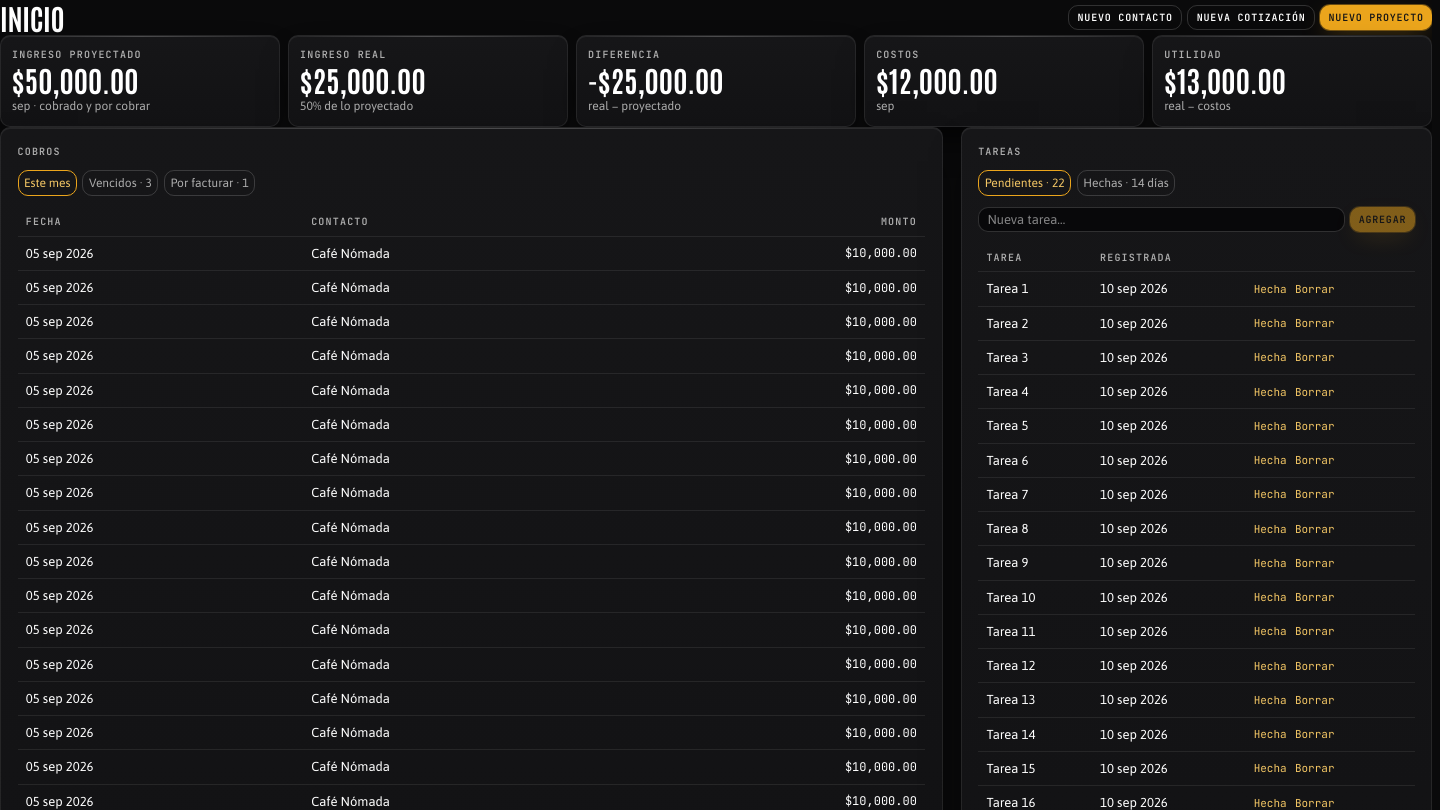
it: Inicio, 20 a page › shows the page of a Tarea just added
Type "Tarea 23" into the field with placeholder "Nueva tarea…" at (1162,219), box [978,207,1345,232]
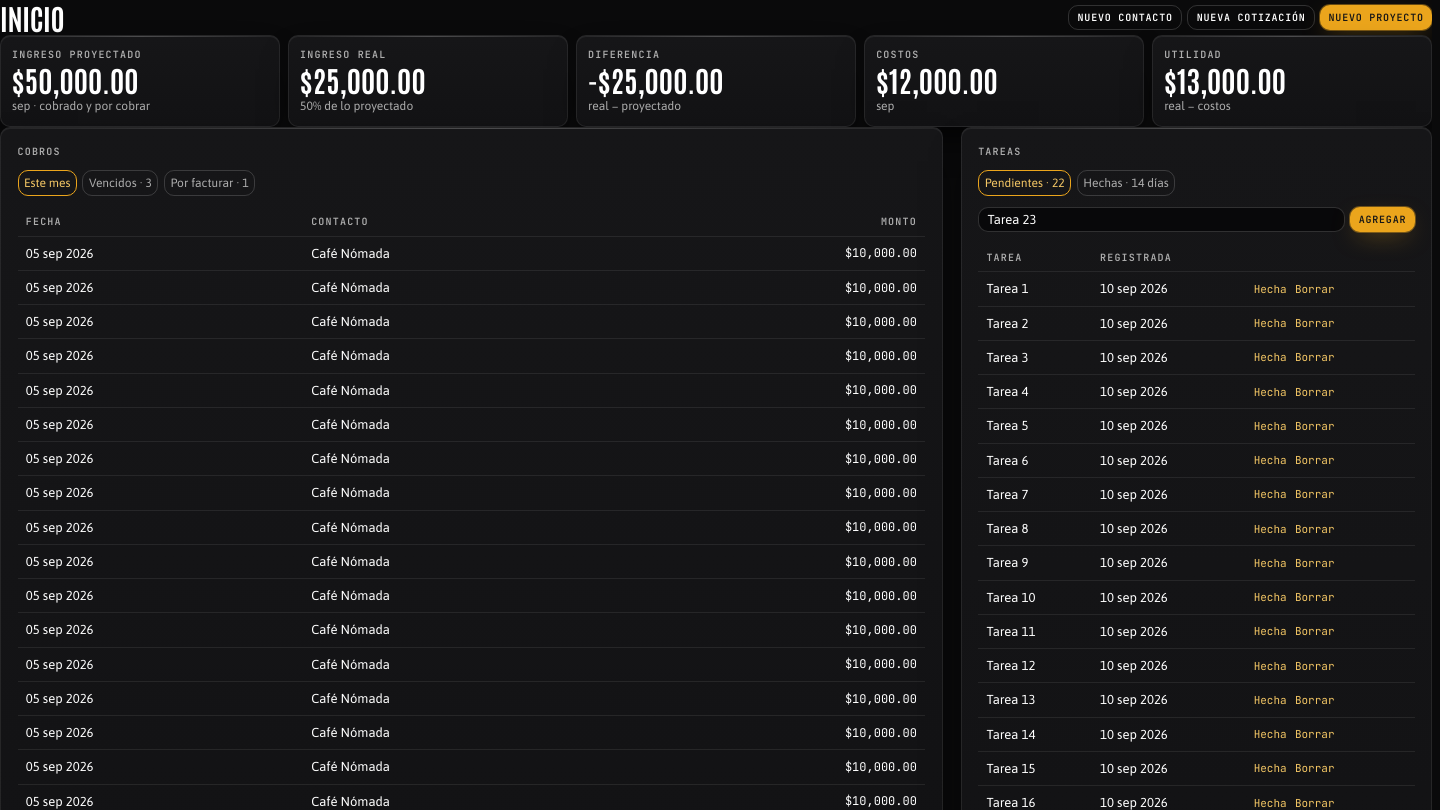
Click the button "Agregar" at (1382,219), box [1350,207,1414,232]
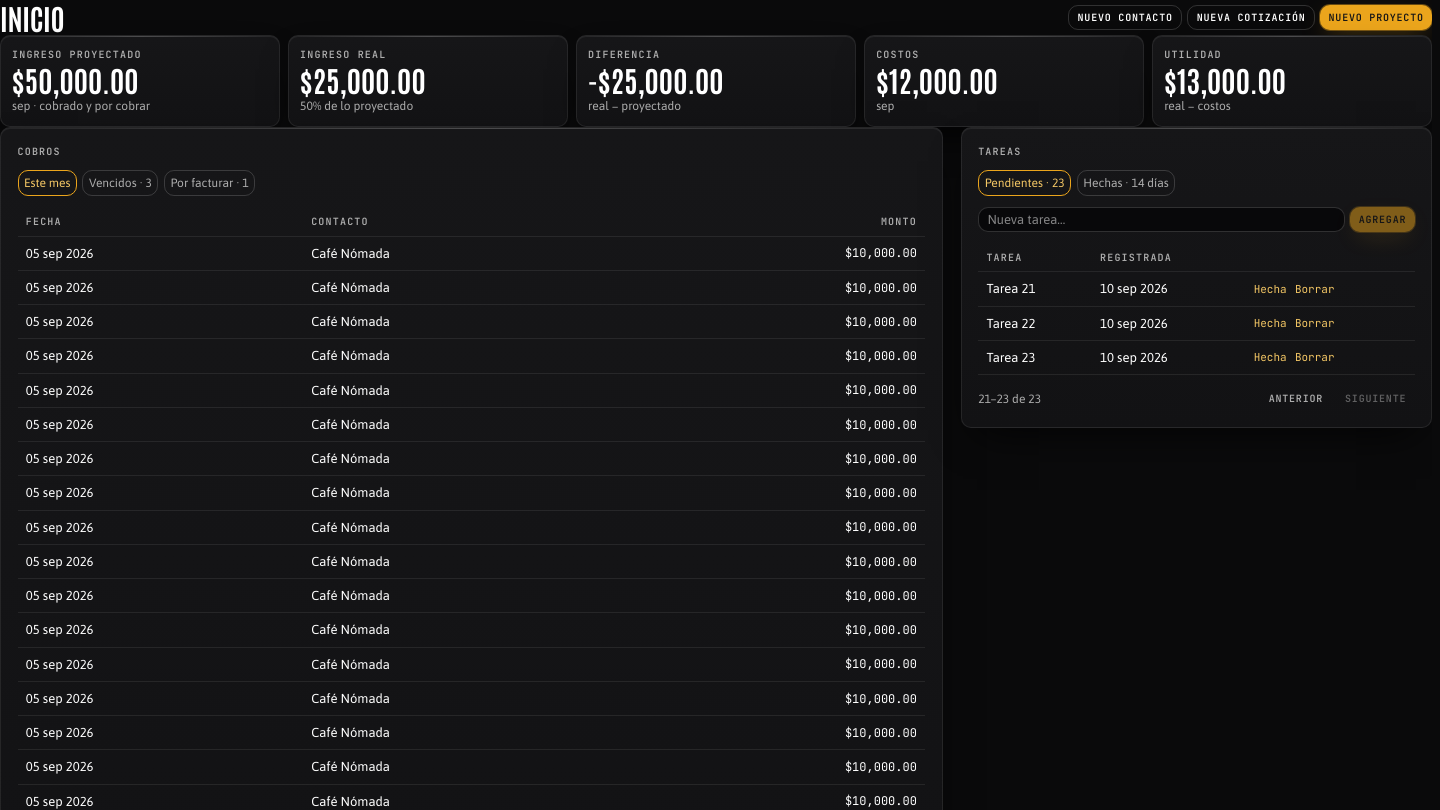
Now the text "21–23 de 23" is shown, box [978,390,1041,408]
Now the text "Tarea 23" is shown, box [978,340,1092,375]
